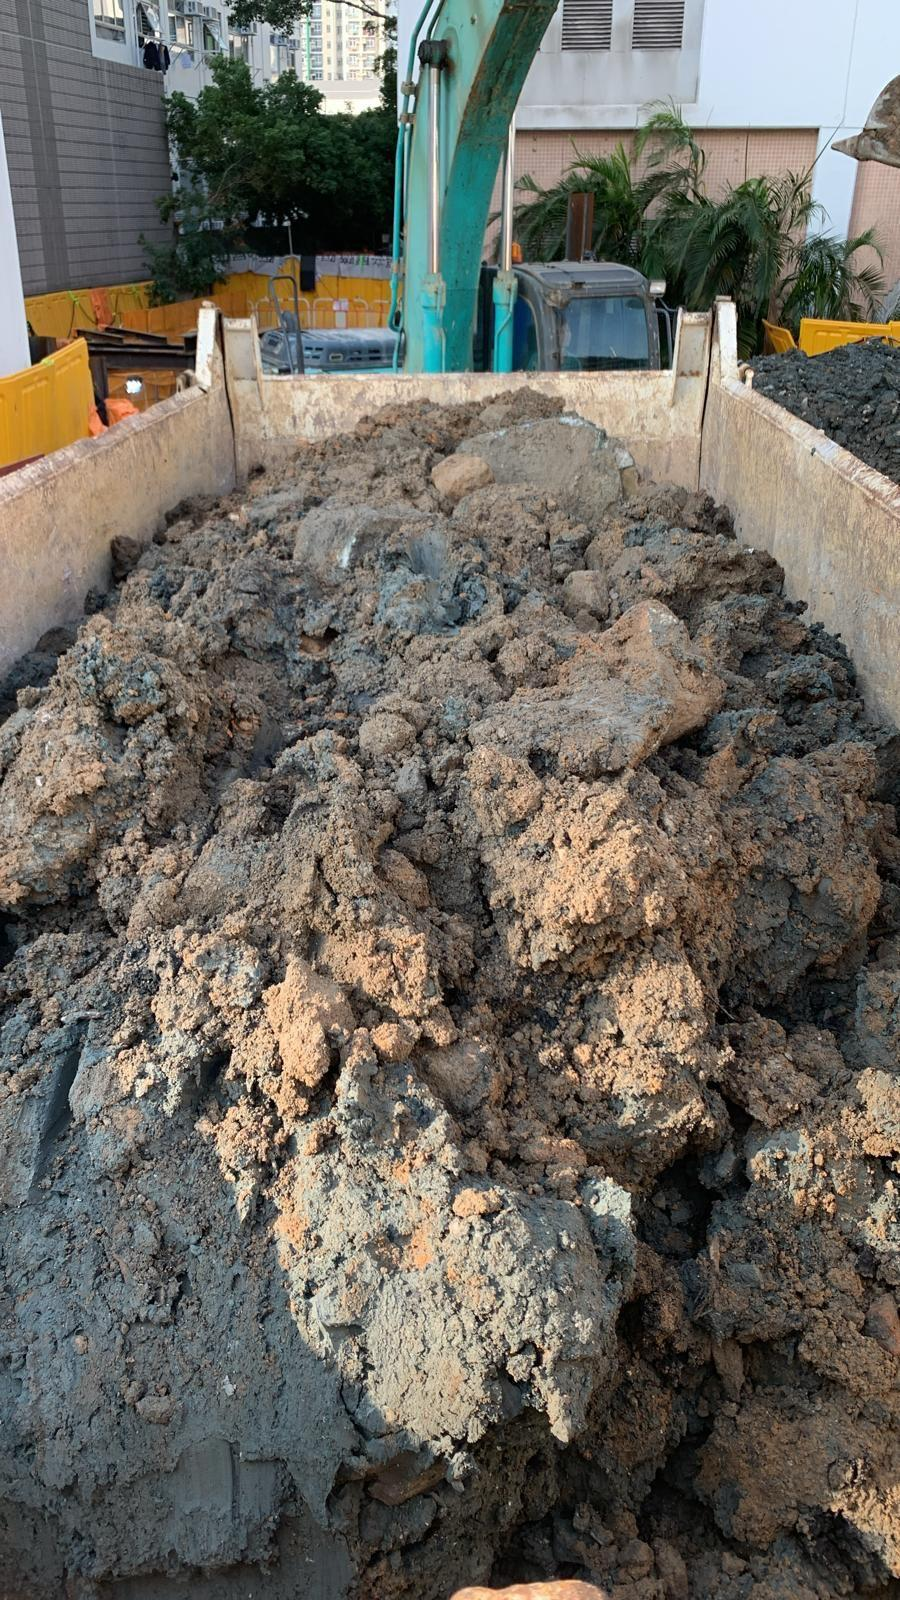wet: (27, 408, 873, 1575)
